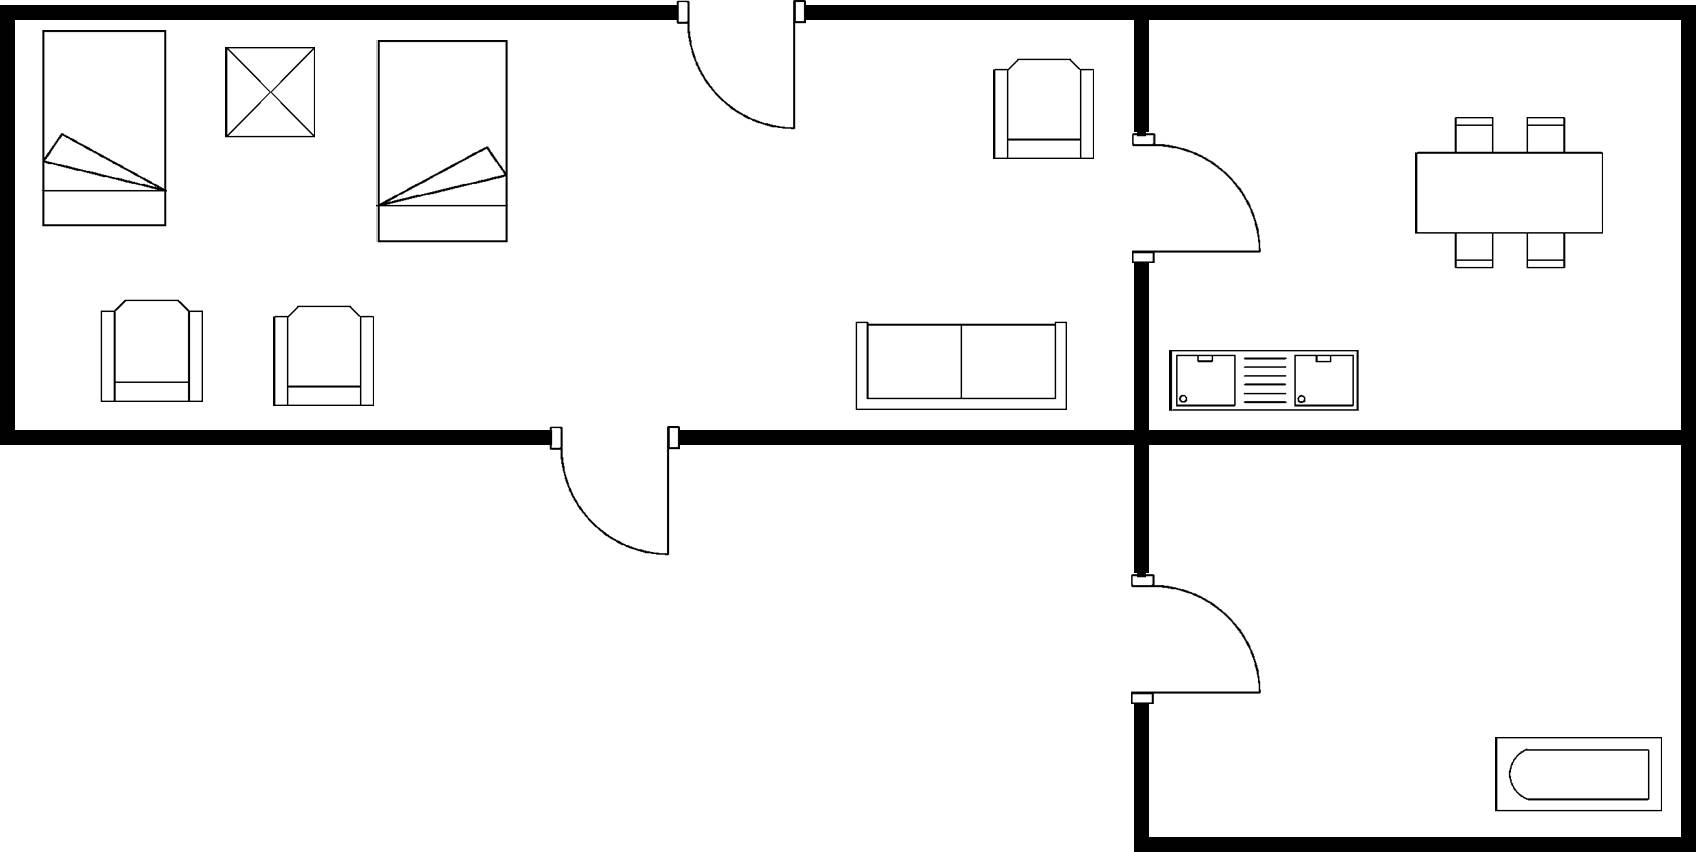armchair: (988, 52, 1101, 169), (92, 293, 207, 408), (267, 300, 382, 414)
bed: (372, 35, 513, 249), (37, 23, 171, 233)
coffee_table: (219, 43, 321, 141)
dining_table: (1408, 111, 1610, 275)
large_sofa: (849, 312, 1076, 420)
tub: (1489, 731, 1668, 820)
twin_sink: (1162, 343, 1369, 417)
